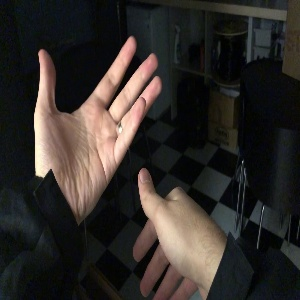hand: (36, 34, 160, 216), (133, 169, 226, 300)
